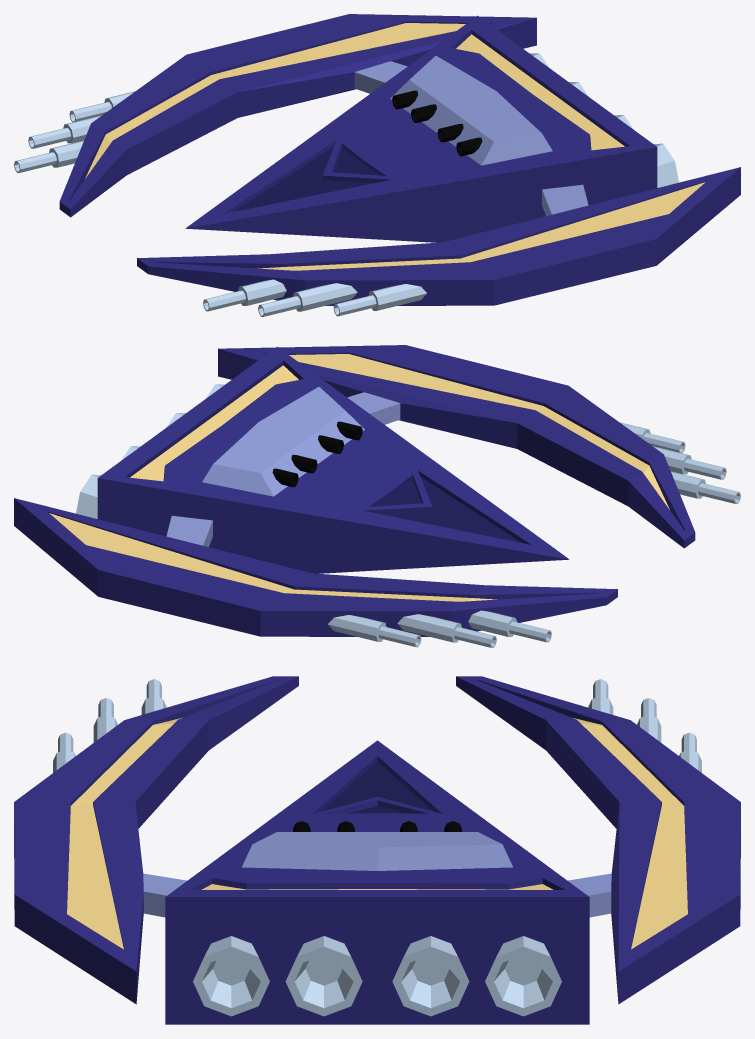
File: WingedDevil.fbx
3 views of the same model, one above another, from view 1: azimuth 30°, elevation 25°; view 2: azimuth 150°, elevation 25°; view 3: azimuth 270°, elevation 25° (orthographic). The views are drawn at different scales.
Visible parts, largest first — view 1: WingedDevil; view 2: WingedDevil; view 3: WingedDevil.
Part boxes in pixels (<box>): WingedDevil: <box>14,14,740,316</box>; WingedDevil: <box>14,345,740,647</box>; WingedDevil: <box>14,676,740,1024</box>.
Bounding box in the file's own units: 10.36 × 2.14 × 10.32.
